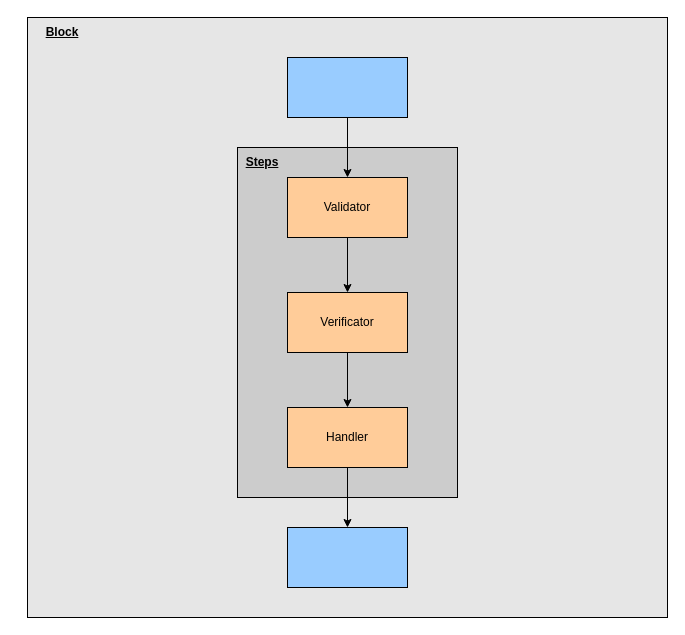
This 685x635 diagram has some shape labels left out. The shapes that lost their labels are listed below. From the top down, each one's centre as x and y in pixels, then its label:
At (x=347, y=87): "Request Payload".
At (x=347, y=557): "Response Payload".
